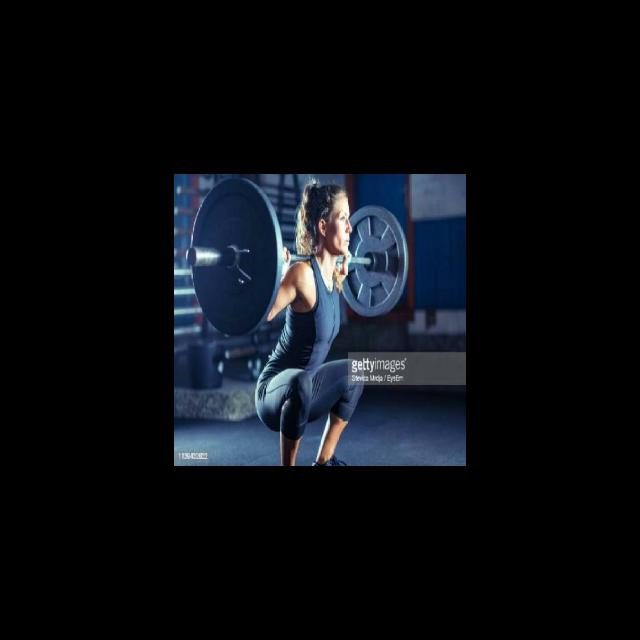barbell: (183, 174, 288, 349)
